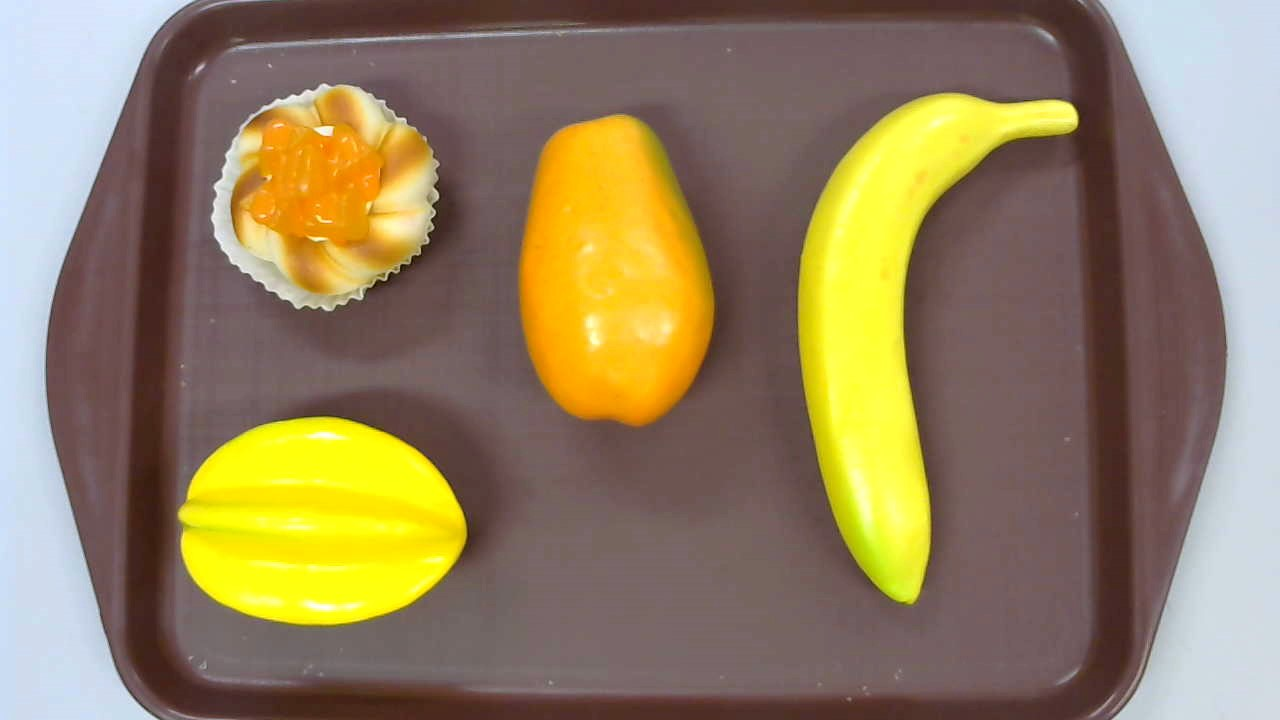banana: (798, 91, 1078, 605)
mango tart: (210, 84, 439, 315)
papya: (516, 112, 715, 427)
star fruit: (176, 416, 466, 625)
